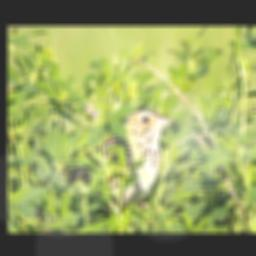Sparrow: (61, 108, 175, 220)
